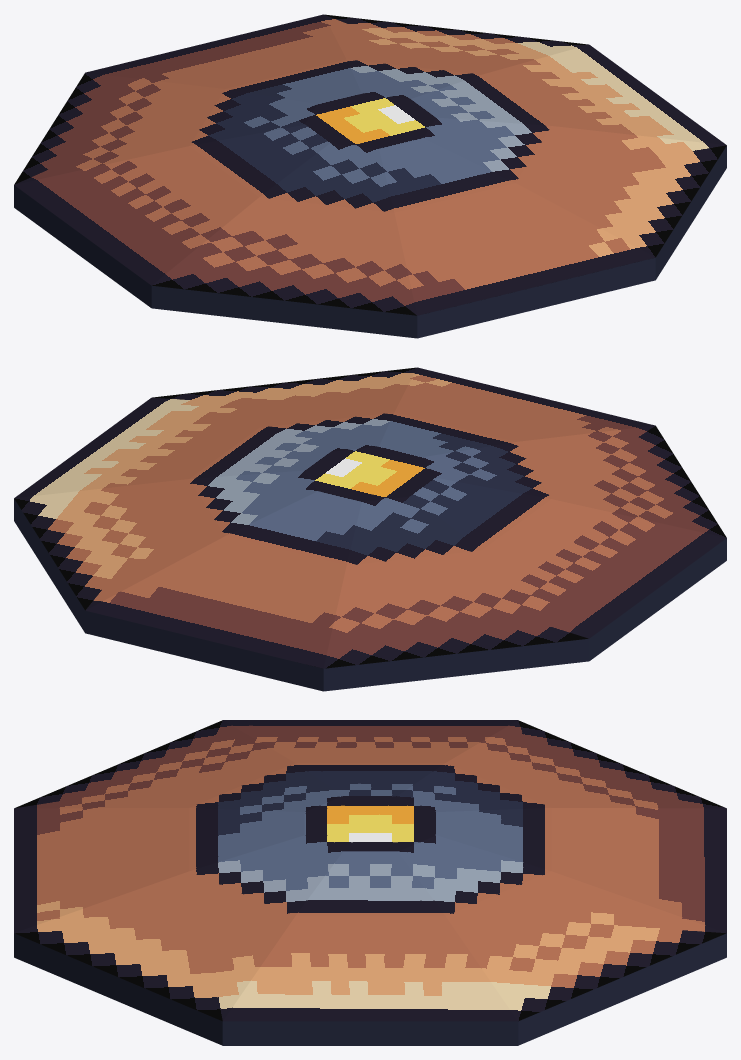
File: buckler.glb
The picture shows the model from 3 angles, top to bottom: view 1: azimuth 30°, elevation 25°; view 2: azimuth 150°, elevation 25°; view 3: azimuth 270°, elevation 25°; orthographic projection. The views are drawn at different scales.
Parts seen in each view (by area): view 1: Buckler; view 2: Buckler; view 3: Buckler.
Part boxes in pixels (left/top/right/bottom): Buckler: left=14, top=14, right=726, bottom=338; Buckler: left=14, top=367, right=726, bottom=691; Buckler: left=14, top=720, right=726, bottom=1045.
Bounding box in the file's own units: 1.09 × 0.1201 × 1.09.
Materials: 1 (1 with a texture image).
